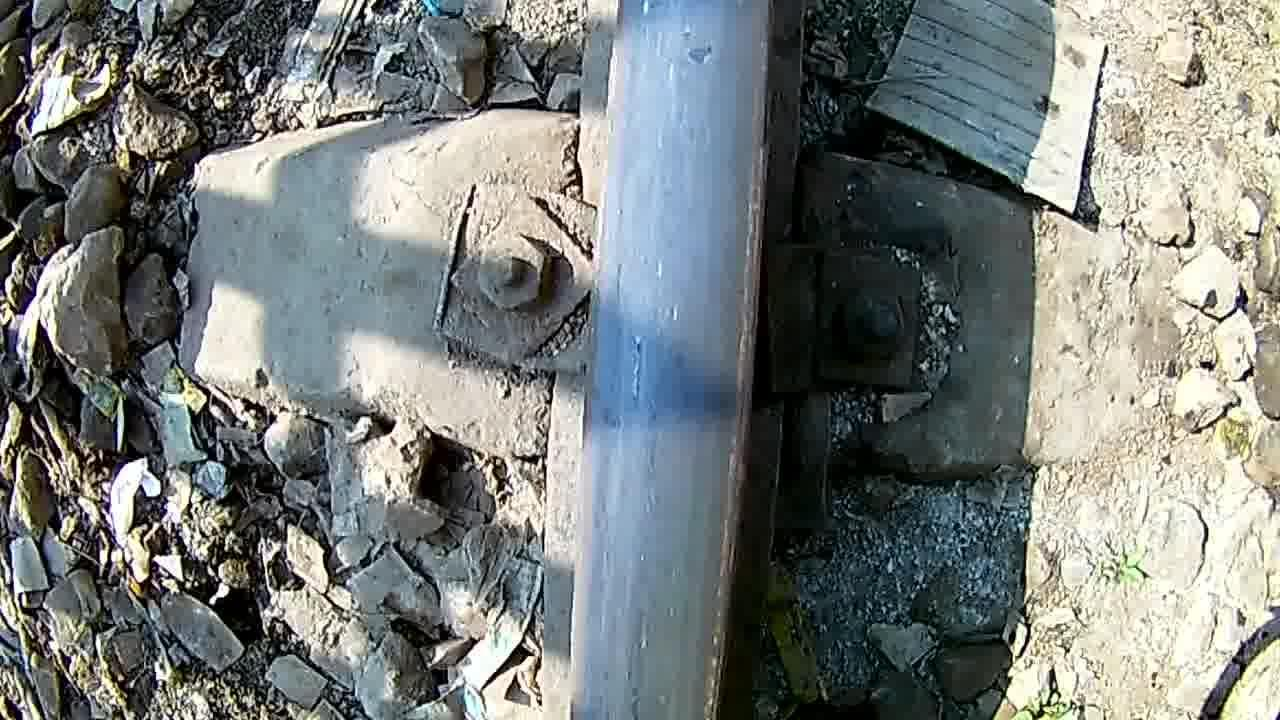crack: (582, 0, 774, 720)
